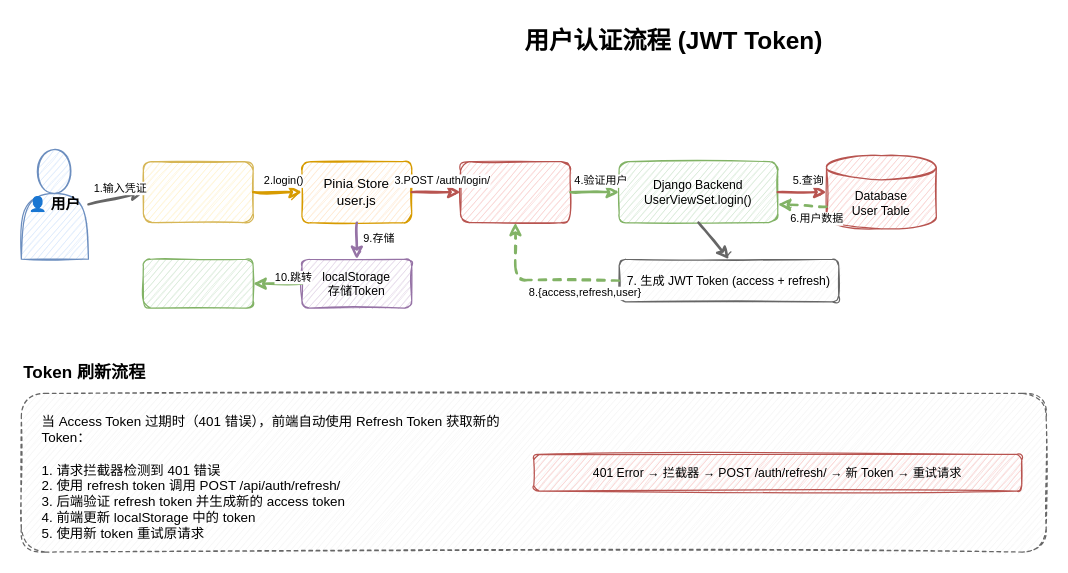
Image size: 1068x573. Some labels were removed from this diagram. The shapes that lost their labels are listed below. From the top down, each one's centre as x and y in pixels, then its label:
(197,191): Login.vue 登录页面
(514,191): API user.js
(197,283): Dashboard 仪表盘
